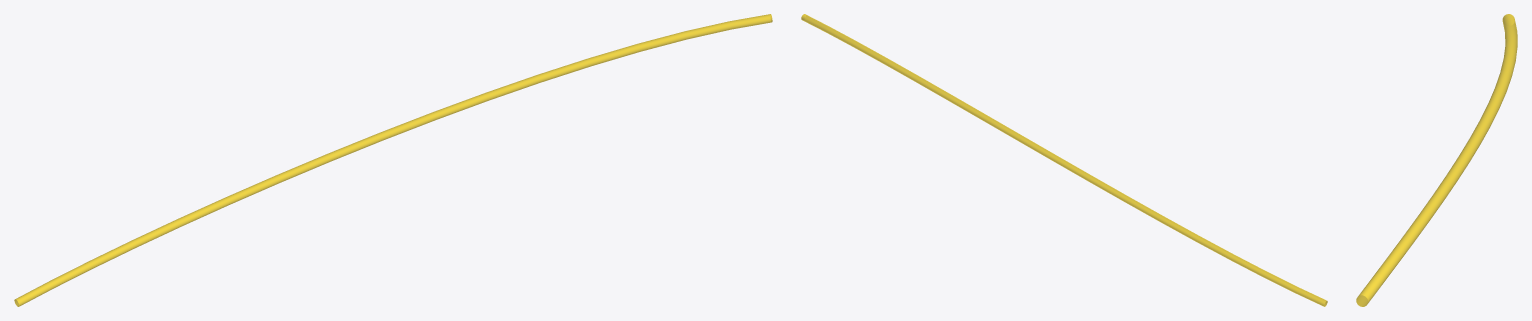
File: Event_402970704_track_56.fbx
3 renders of one model, left to right at view 1: azimuth 30°, elevation 25°; view 2: azimuth 150°, elevation 25°; view 3: azimuth 270°, elevation 25°, orthographic. The views are drawn at different scales.
Parts seen in each view (by area): view 1: Model; view 2: Model; view 3: Model.
Part boxes in pixels (x1=…): Model: x1=14, y1=14, x2=772, y2=306; Model: x1=801, y1=14, x2=1327, y2=306; Model: x1=1356, y1=14, x2=1517, y2=306.
Size of the model in its own units: 3.81 by 0.8126 by 0.5194.
